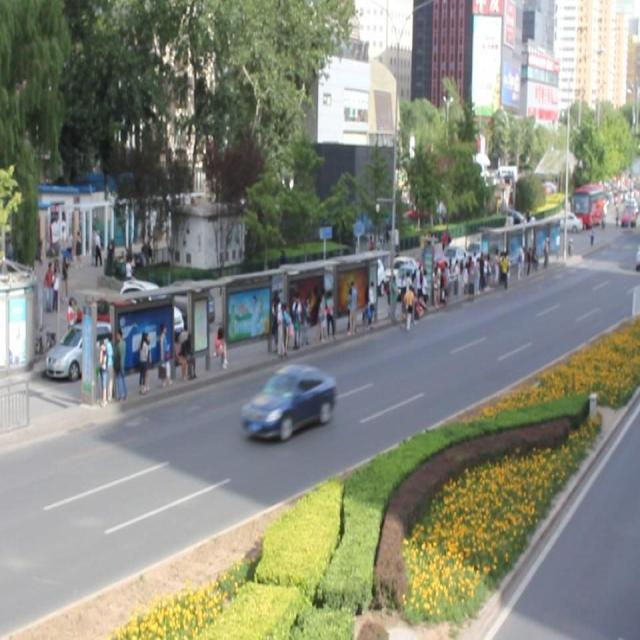car: (240, 360, 334, 442)
